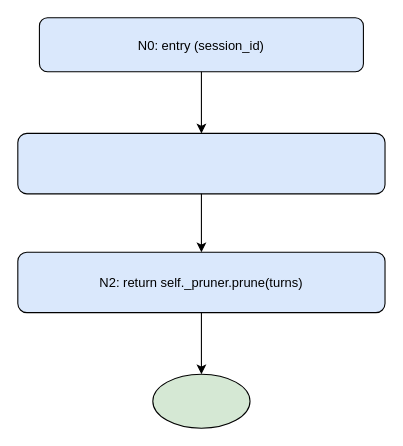
Image size: 403x446. Some labels were removed from this diagram. Each missing label, with the centre of its shape:
"N1: turns = await storage.get_turns(session_id)" goes at (201,163).
"N3: exit" goes at (201,400).
